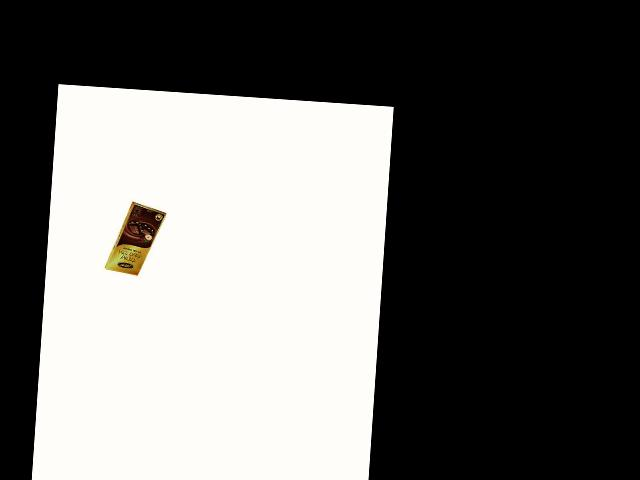chocolate: (102, 193, 167, 277)
